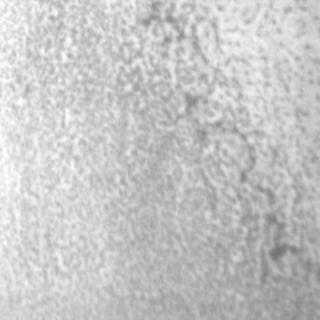pitted_surface: (130, 2, 314, 290), (8, 2, 238, 116)
